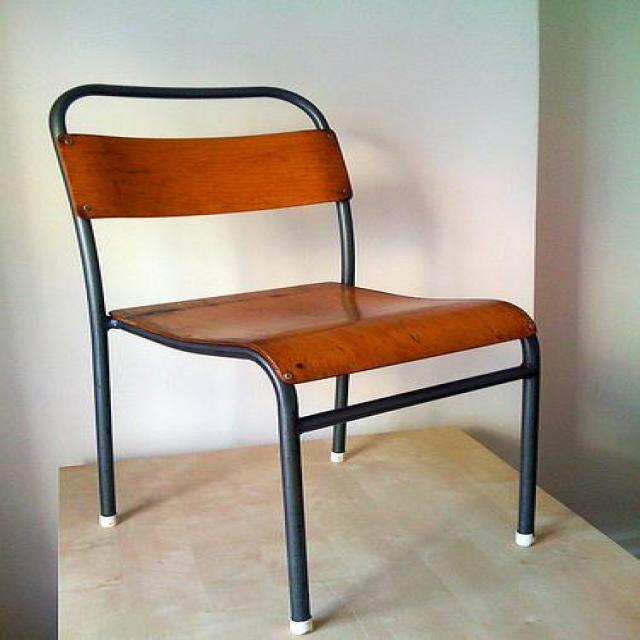chair: (48, 82, 541, 635)
